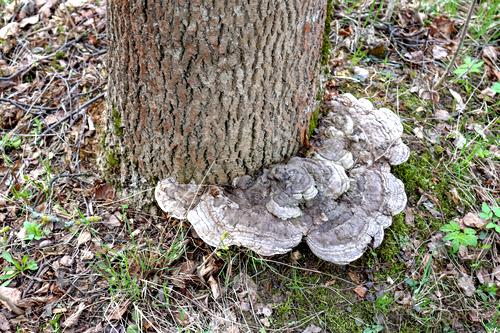Ganoderma - Fruit Body: (157, 90, 411, 265)
